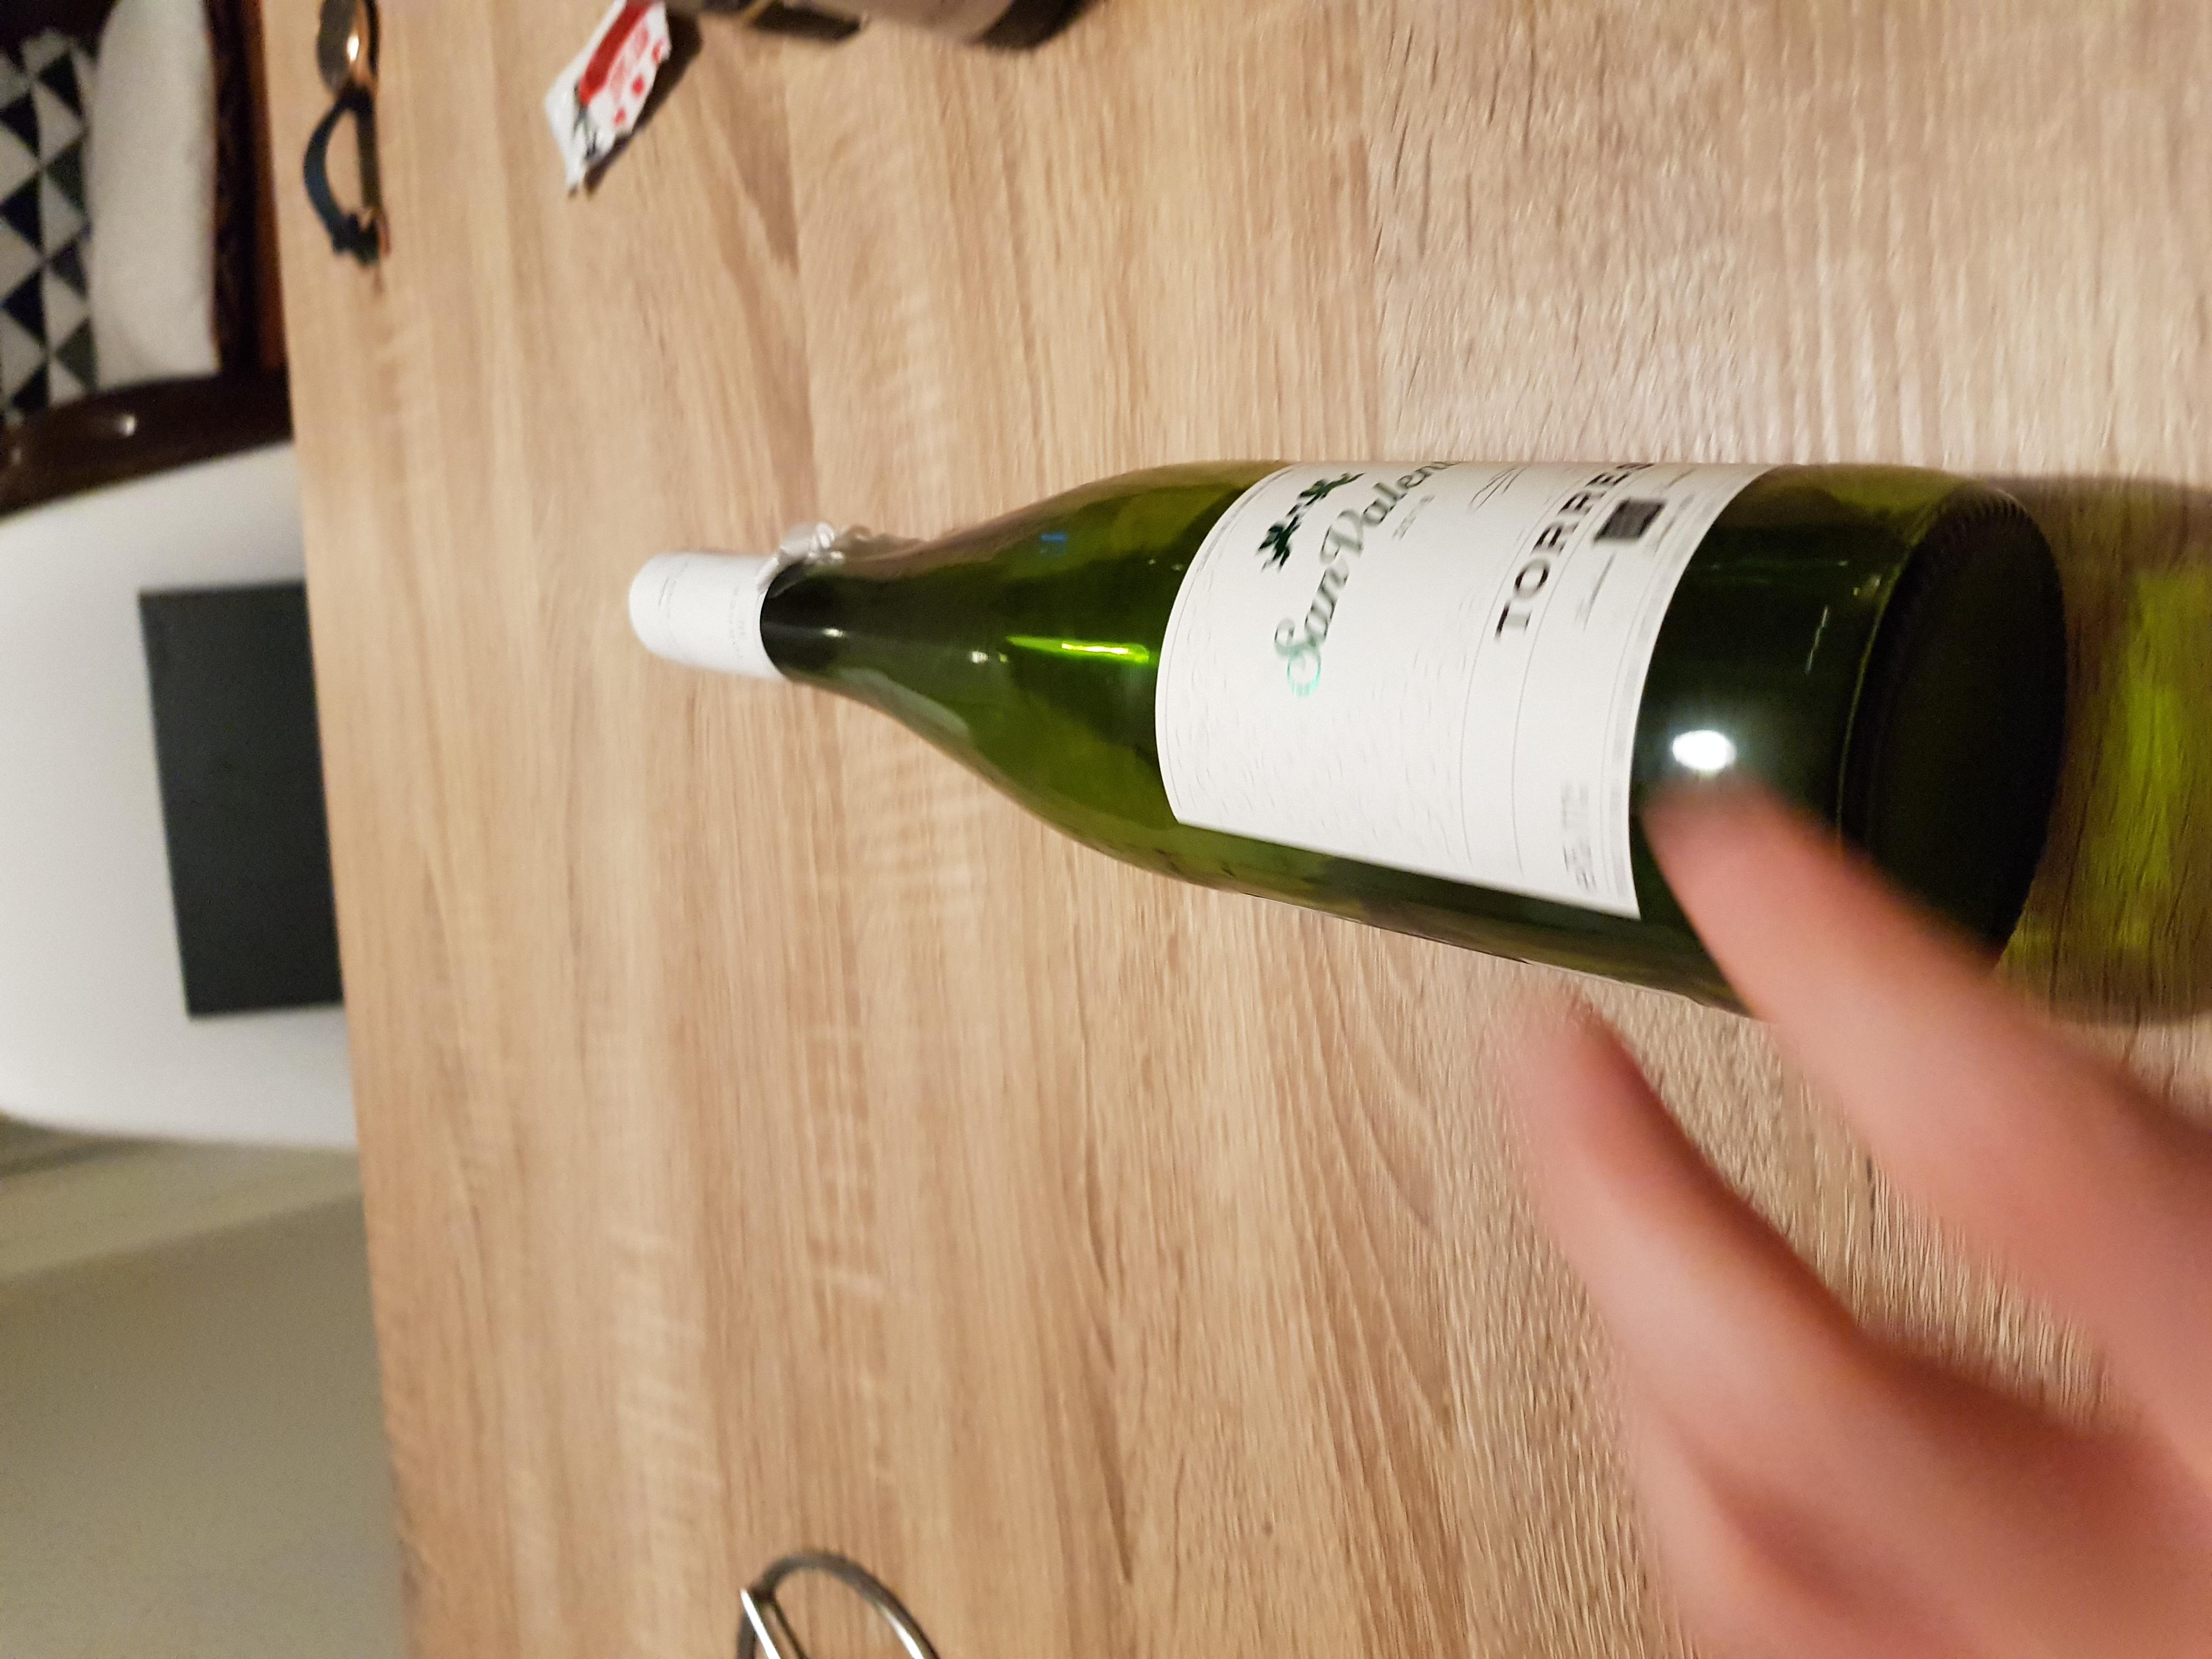Bottle: (627, 455, 2073, 1016)
